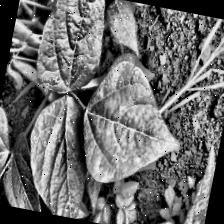ALS: (78, 50, 195, 196), (34, 0, 112, 99)
